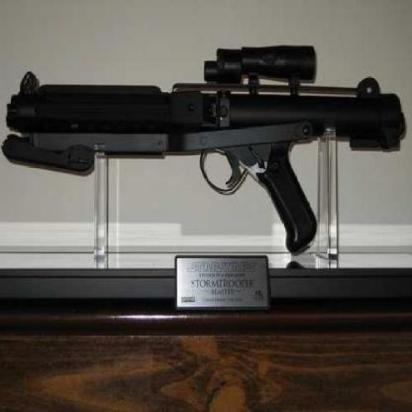Gun: (0, 43, 408, 252)
